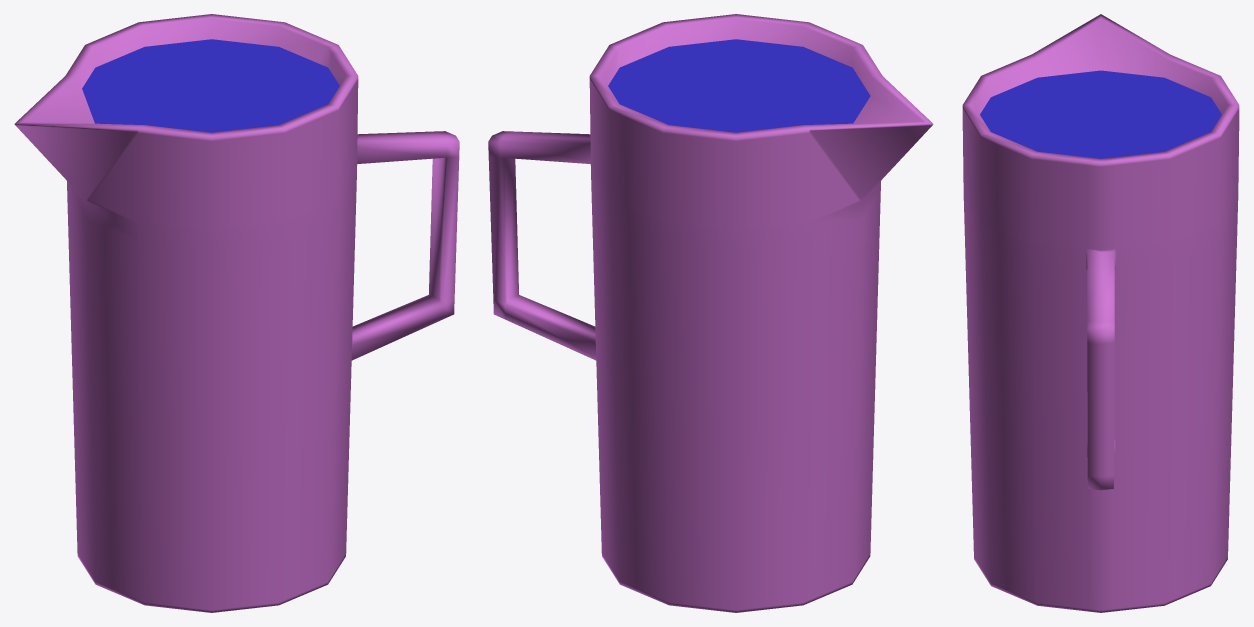
File: Dzbanek.fbx
3 renders of one model, left to right at view 1: azimuth 30°, elevation 25°; view 2: azimuth 150°, elevation 25°; view 3: azimuth 270°, elevation 25°, orthographic. The views are drawn at different scales.
Parts seen in each view (by area): view 1: Dzbanek; view 2: Dzbanek; view 3: Dzbanek.
Boxes of the visible parts, x1=… form: Dzbanek: x1=14, y1=14, x2=459, y2=612; Dzbanek: x1=488, y1=14, x2=933, y2=612; Dzbanek: x1=962, y1=14, x2=1239, y2=612.
Bounding box in the file's own units: 25.18 × 14.46 × 26.17.
